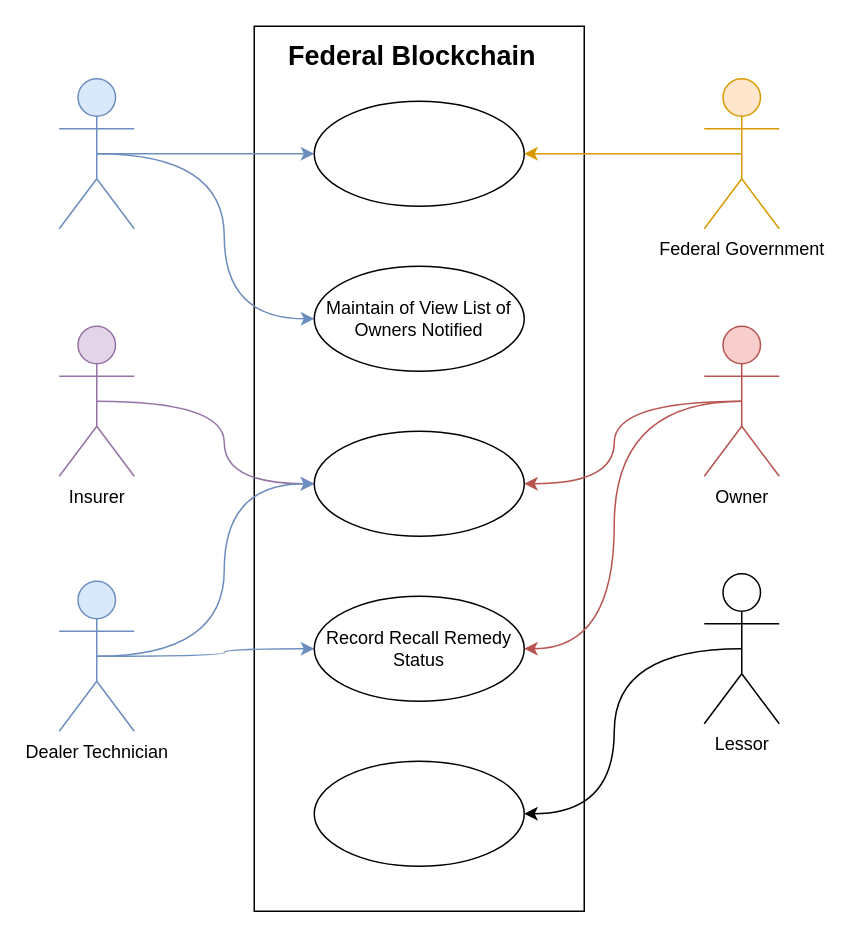
This 851x950 diagram has some shape labels left out. The shapes that lost their labels are listed below. From the top down, each one's centre as x and y in pixels, then its label:
At [96,153]: "OEM".
At [418,153]: "Record Recall".
At [418,483]: "Check/Search for Recalls".
At [418,813]: "Maintain or View List of Lessees Notified".
